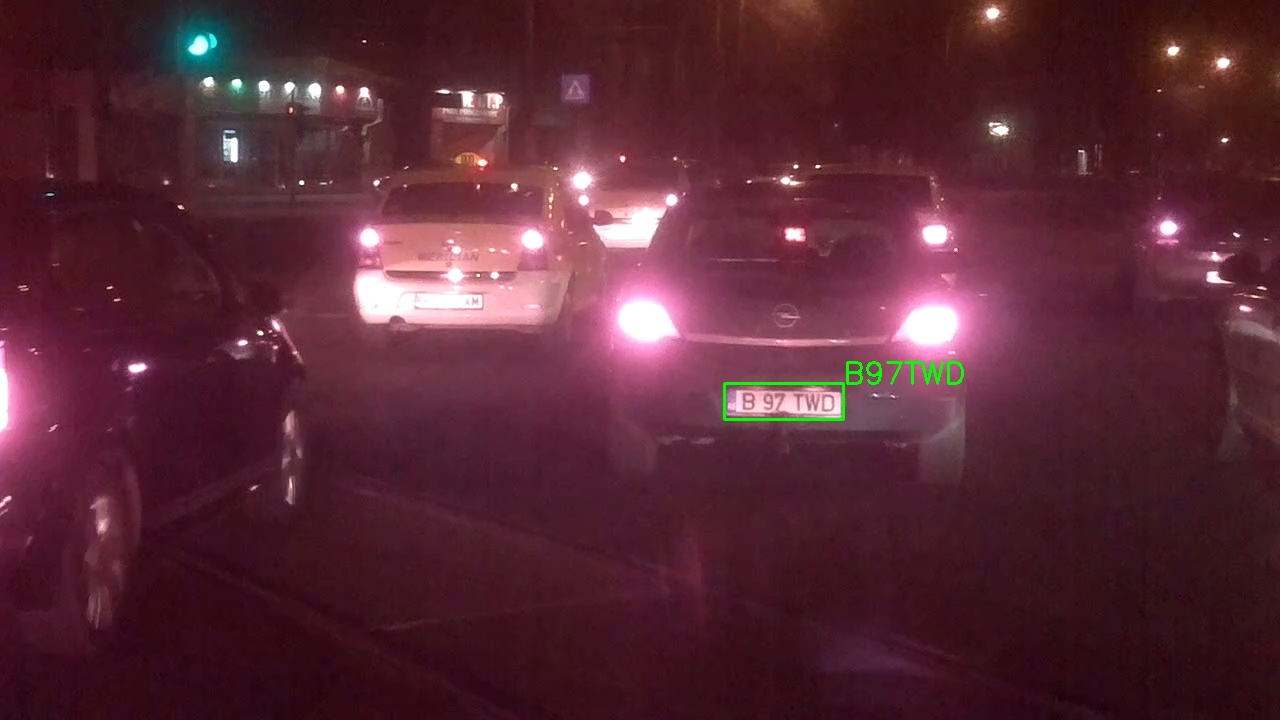license-plate: (724, 383, 844, 420)
